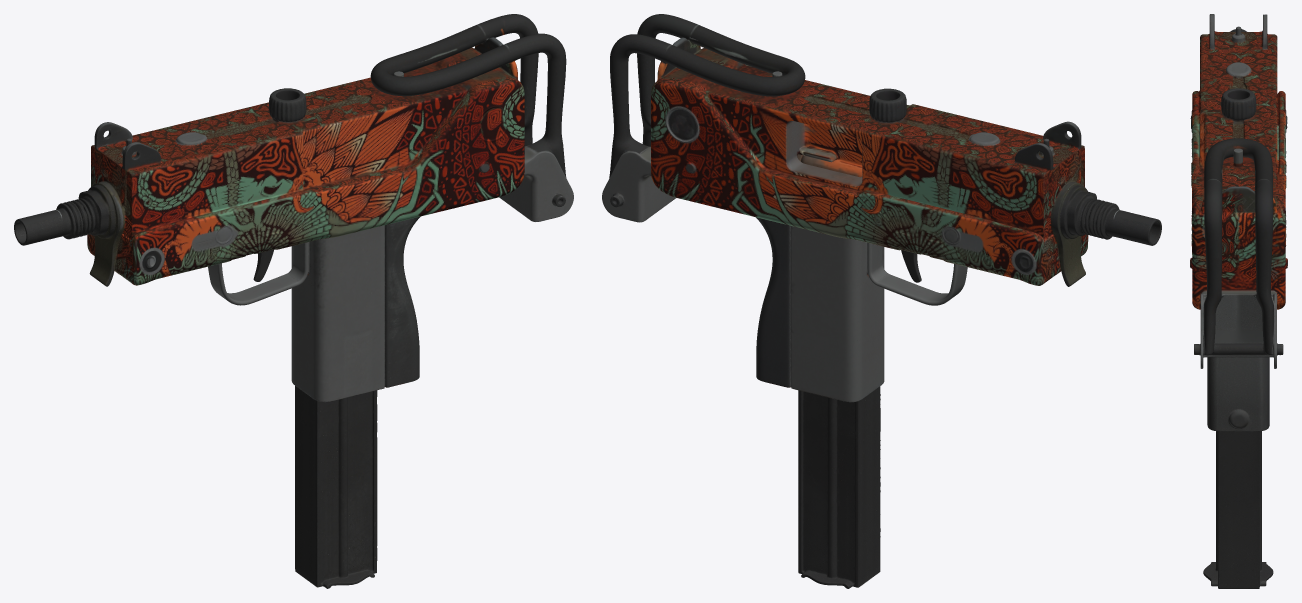
Rendered from Meshy_AI_Meshy_AI_mac10_101213_1014152122_texture.glb.
3 views of the same model, side by side, from view 1: azimuth 30°, elevation 25°; view 2: azimuth 150°, elevation 25°; view 3: azimuth 270°, elevation 25° (orthographic). The views are drawn at different scales.
Bounding box in the file's own units: 2 × 1.8 × 0.3385.
Materials: 1 (1 with a texture image).
